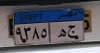2: (24, 26, 31, 38)
5: (41, 28, 47, 39)
8: (32, 26, 39, 40)
9: (15, 26, 23, 42)
haa: (58, 29, 66, 38)
jeem: (67, 24, 77, 38)
